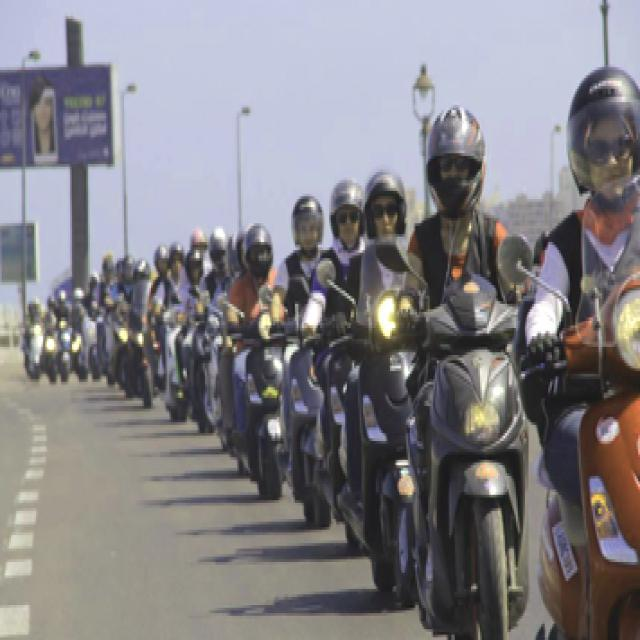Helmet: (562, 59, 640, 212), (421, 99, 496, 218), (237, 220, 275, 276)
